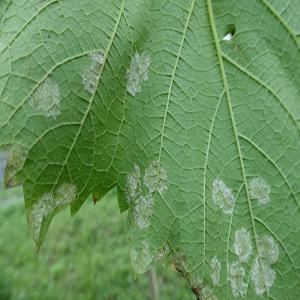Folha: (0, 0, 299, 298)
Fungo: (23, 178, 78, 236), (168, 248, 218, 300), (127, 162, 154, 228), (27, 73, 61, 120), (130, 236, 169, 276), (125, 49, 152, 97), (2, 142, 28, 185), (250, 254, 276, 296), (81, 49, 105, 94), (142, 159, 170, 196), (211, 177, 235, 216), (232, 226, 252, 264), (227, 260, 247, 298), (247, 175, 271, 206), (257, 233, 279, 265), (210, 254, 221, 286)
